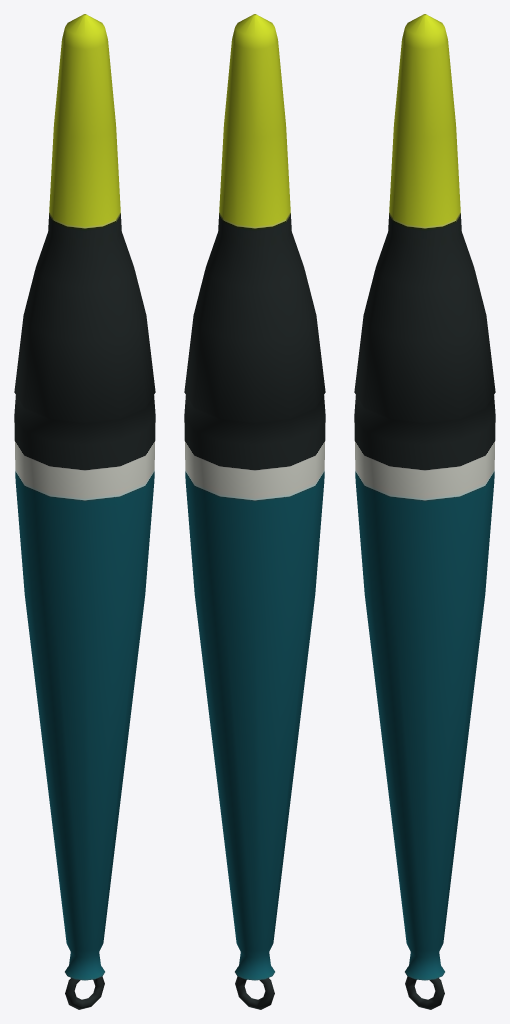
3 renders of one model, left to right at view 1: azimuth 30°, elevation 25°; view 2: azimuth 150°, elevation 25°; view 3: azimuth 330°, elevation 25°, orthographic.
Visible parts, largest first — view 1: F05_Float; view 2: F05_Float; view 3: F05_Float.
Part boxes in pixels (x1,y1,x2,y2): F05_Float: (14, 14, 155, 1009); F05_Float: (184, 14, 325, 1009); F05_Float: (354, 14, 495, 1009).
Bounding box in the file's own units: 0.0142 × 0.11 × 0.0142.
1 material, 1 textured.
